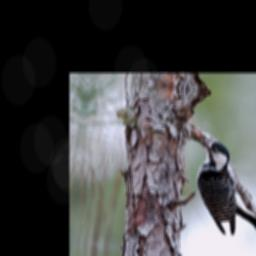Woodpecker: (187, 135, 256, 241)
